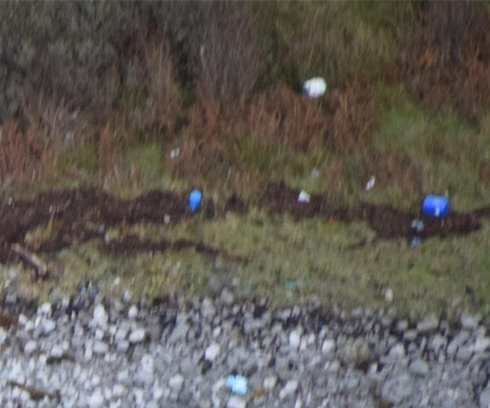scattered_barrel: (168, 65, 458, 247)
white_in_green: (198, 344, 274, 408)
